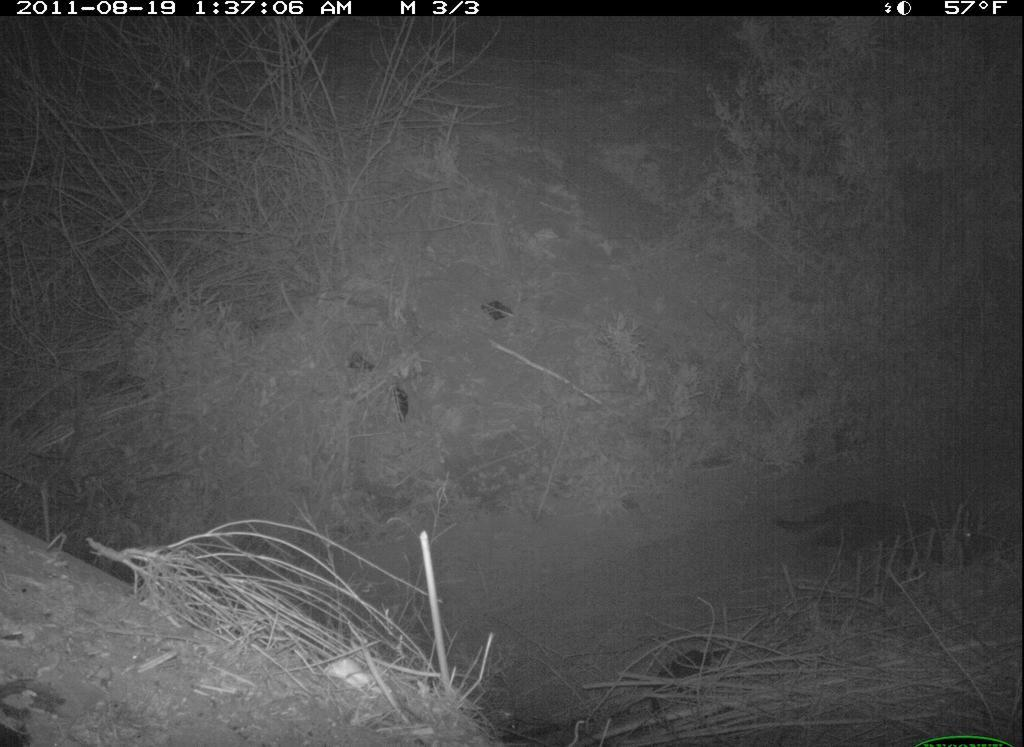cat: (776, 461, 991, 588)
